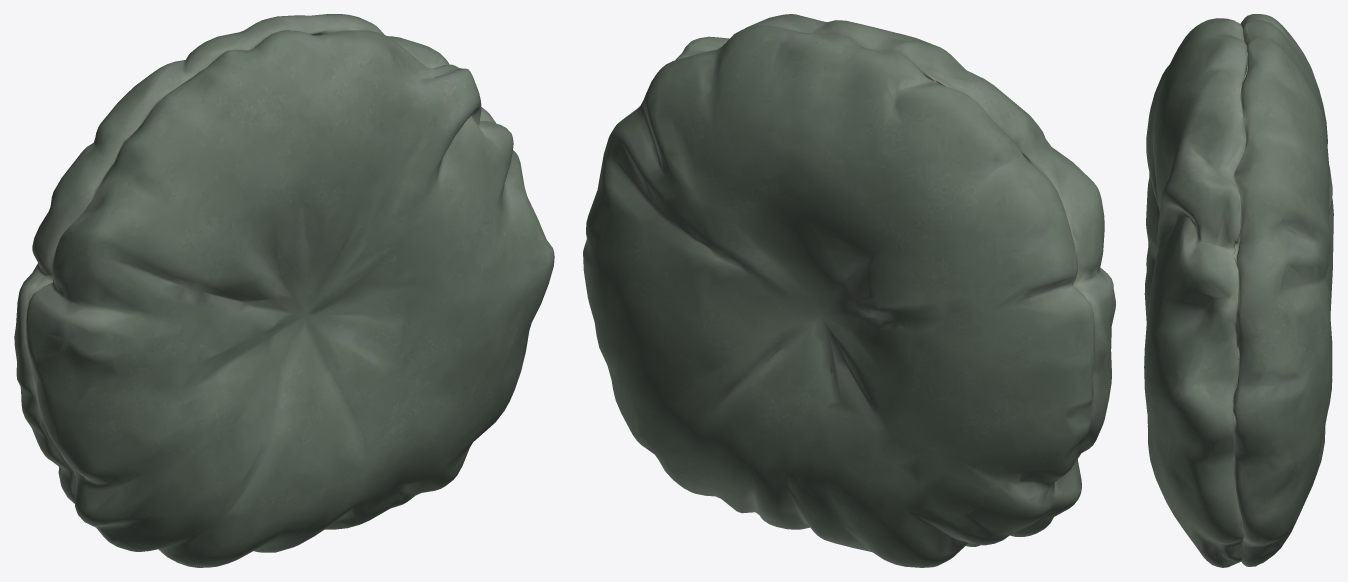
The model's file is B07JL5PNGZ.glb.
3 renders of one model, left to right at view 1: azimuth 30°, elevation 25°; view 2: azimuth 150°, elevation 25°; view 3: azimuth 270°, elevation 25°, orthographic. The views are drawn at different scales.
Parts seen in each view (by area): view 1: RootNode; view 2: RootNode; view 3: RootNode.
Part boxes in pixels (x1,y1,x2,y2): RootNode: [14, 14, 554, 567]; RootNode: [583, 14, 1115, 567]; RootNode: [1144, 14, 1333, 567].
Bounding box in the file's own units: 0.4284 × 0.407 × 0.1479.
1 material, 1 textured.
